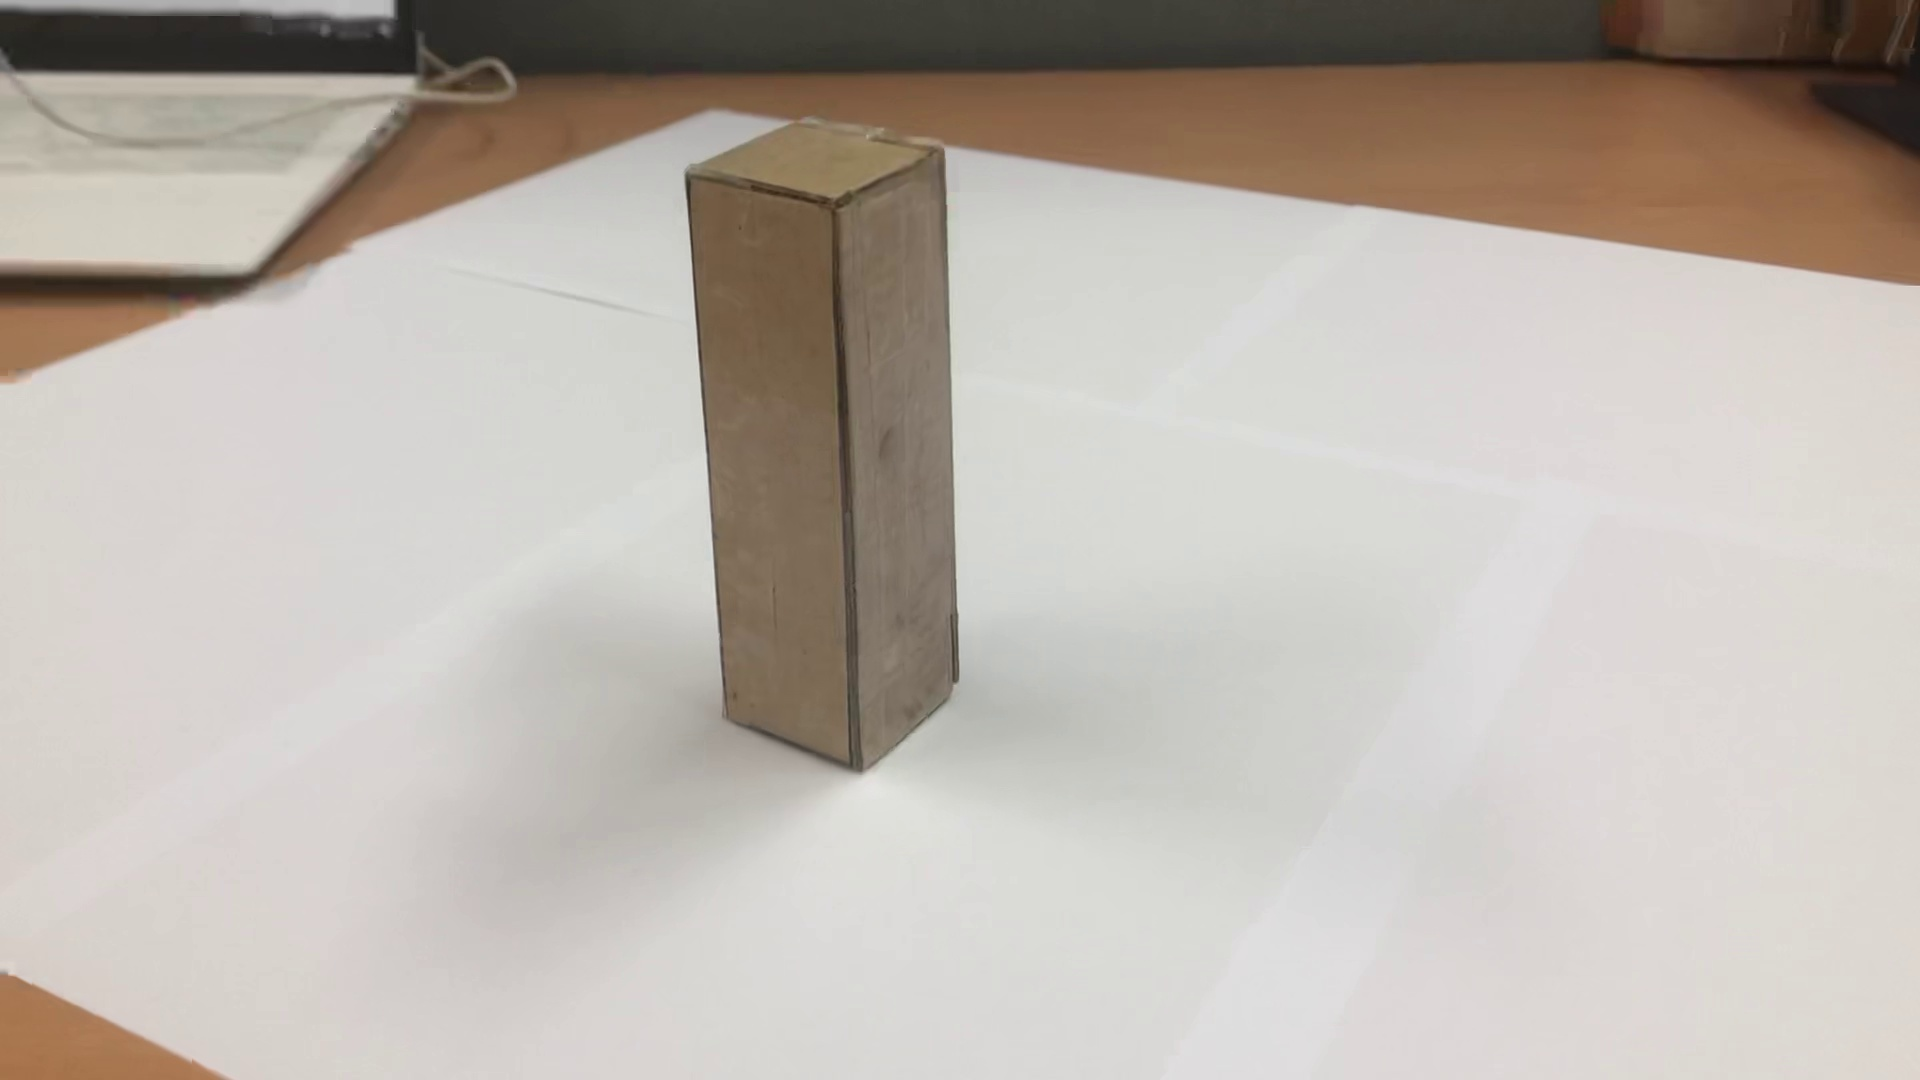box: (680, 102, 1013, 810)
